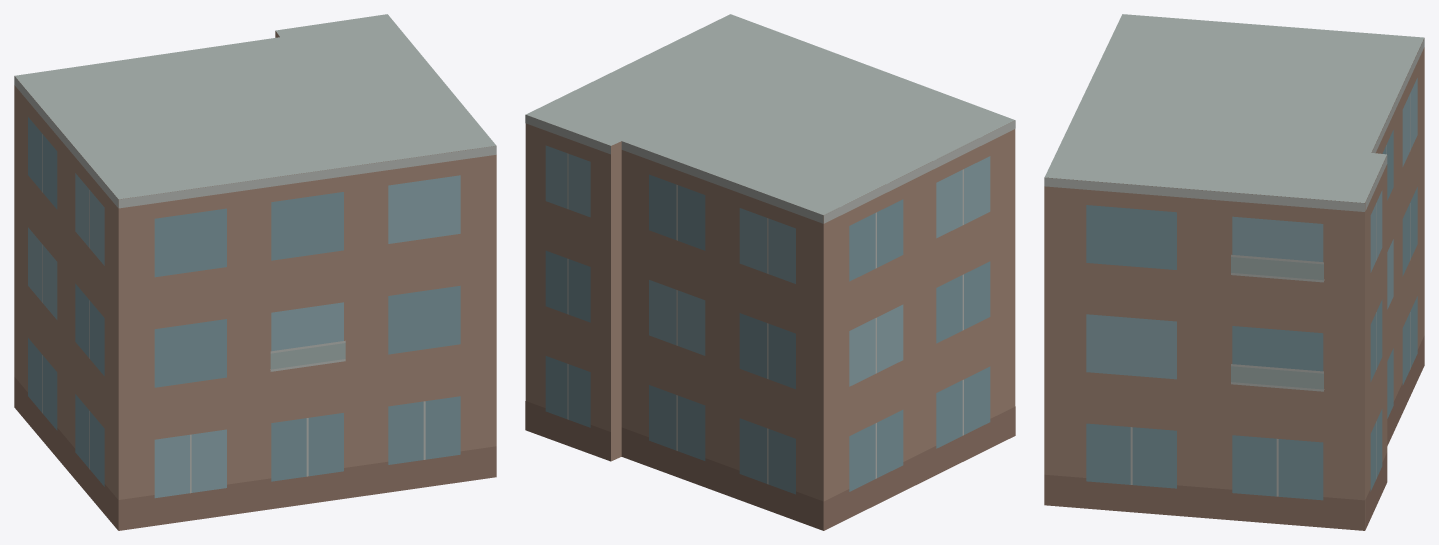
The model's file is survey-upis-32704192.glb.
The picture shows the model from 3 angles, left to right: view 1: azimuth 30°, elevation 25°; view 2: azimuth 150°, elevation 25°; view 3: azimuth 270°, elevation 25°; orthographic projection. The views are drawn at different scales.
Visible parts, largest first — view 1: survey-upis-32704192.tmp; view 2: survey-upis-32704192.tmp; view 3: survey-upis-32704192.tmp.
Part boxes in pixels (x1,y1,x2,y2): survey-upis-32704192.tmp: [14, 14, 496, 530]; survey-upis-32704192.tmp: [525, 14, 1015, 530]; survey-upis-32704192.tmp: [1044, 14, 1424, 530].
Size of the model in its own units: 11.02 by 8.9 by 9.36.
